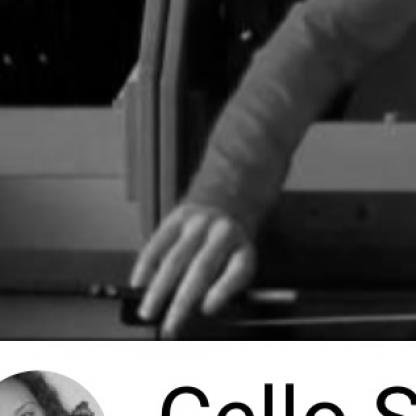bad: (117, 188, 266, 337)
